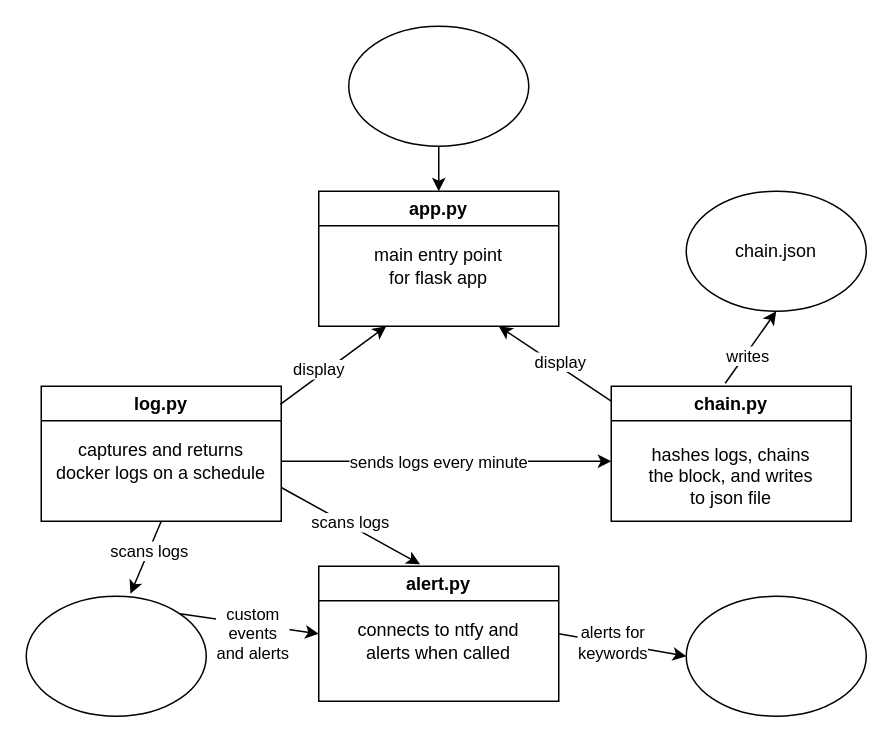
The diagram is 893 pixels wide and 743 high, and some of its shapes have lost their labels. The shapes that lost their labels are listed below. From the top down, each one's centre as x and y in pixels, then its label:
point 438,85: ./run.sh
point 115,655: custom user python scripts
point 775,655: config.yml
